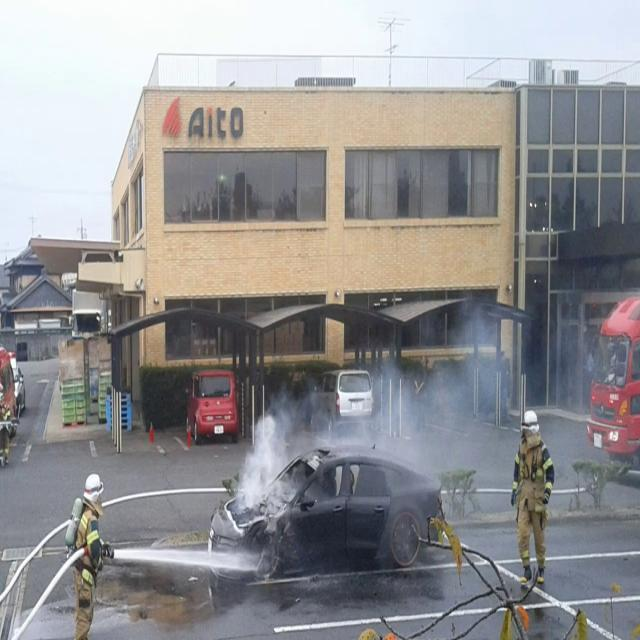Smoke: (236, 316, 574, 531)
